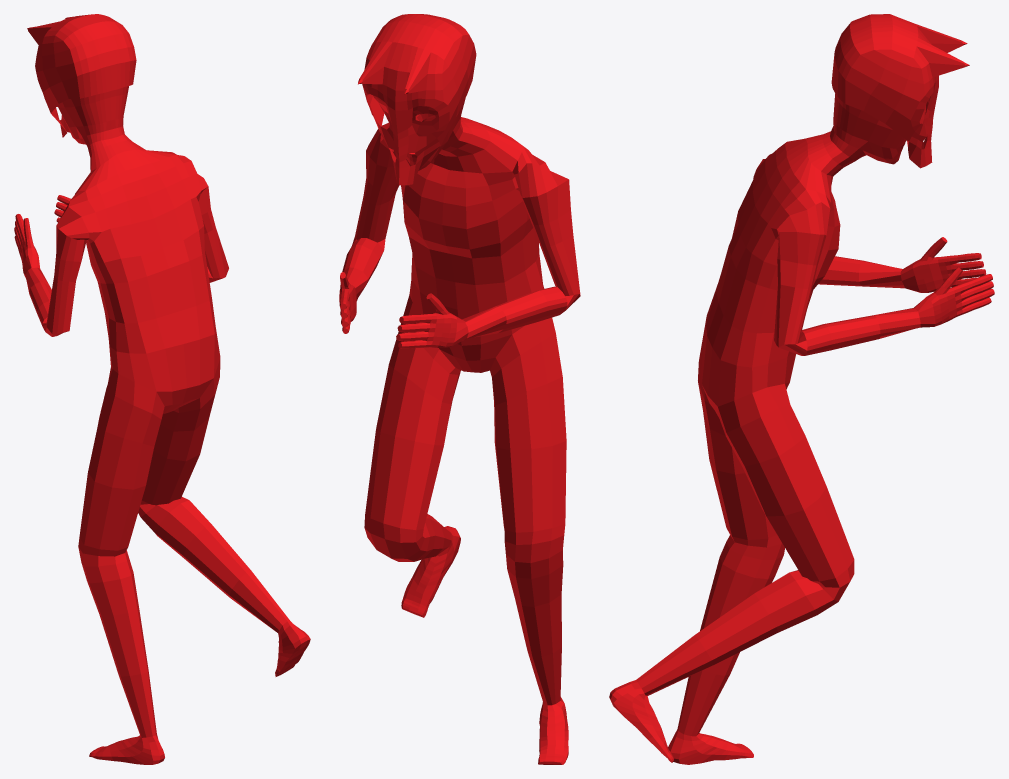
Rendered from correrE_000093.obj.
The picture shows the model from 3 angles, left to right: view 1: azimuth 30°, elevation 25°; view 2: azimuth 150°, elevation 25°; view 3: azimuth 270°, elevation 25°; orthographic projection. The views are drawn at different scales.
Visible parts, largest first — view 1: Plane.002_Plane.001; view 2: Plane.002_Plane.001; view 3: Plane.002_Plane.001.
Part boxes in pixels (x1,y1,x2,y2): Plane.002_Plane.001: (14,14,310,764); Plane.002_Plane.001: (339,14,580,764); Plane.002_Plane.001: (609,14,994,764).
Bounding box in the file's own units: 2.09 × 6.7 × 3.08.
